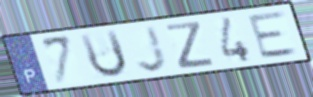4: (219, 15, 252, 64)
7: (40, 32, 75, 87)
E: (246, 9, 302, 61)
J: (134, 24, 170, 74)
U: (77, 28, 130, 80)
Z: (163, 20, 216, 71)
